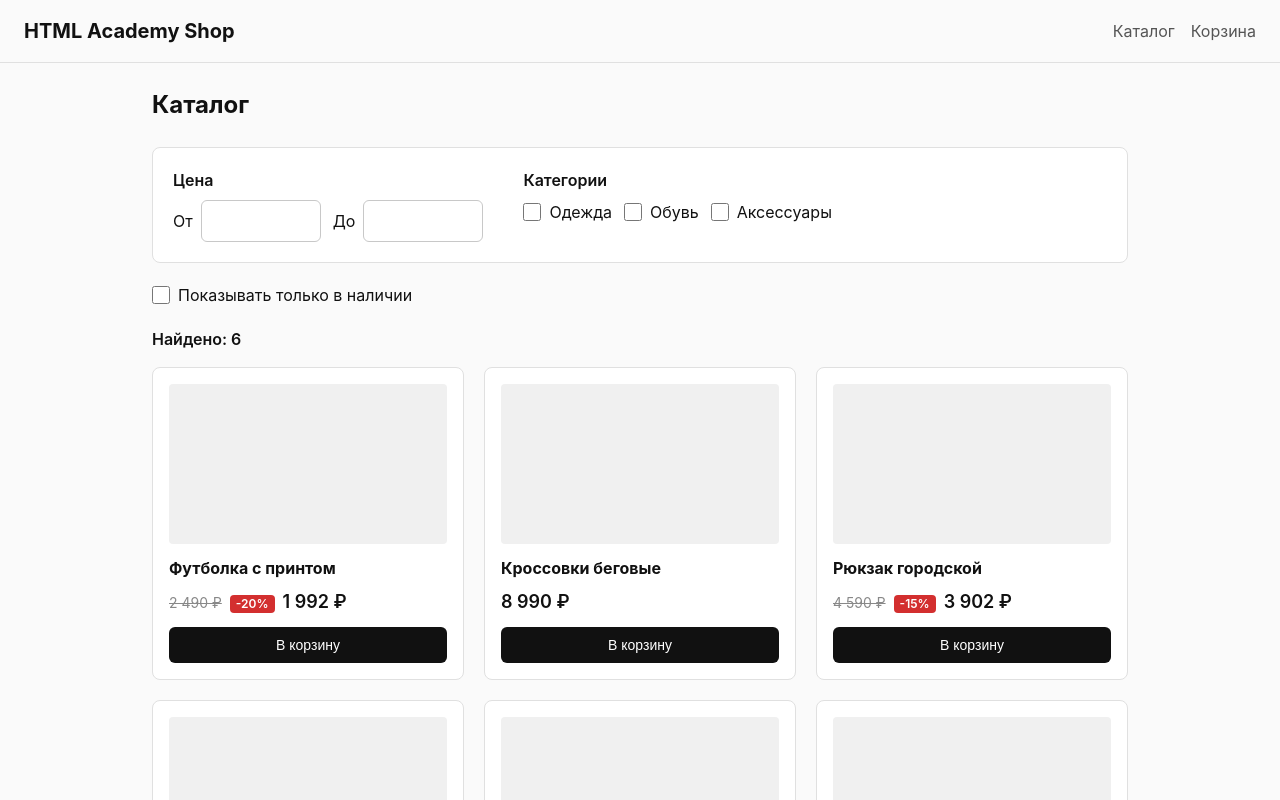
Test case: shop › adds a product to the cart and shows the total
Click the button "В корзину" below "1 992 ₽". click: (308, 645)
box: x1=169 y1=627 x2=447 y2=663
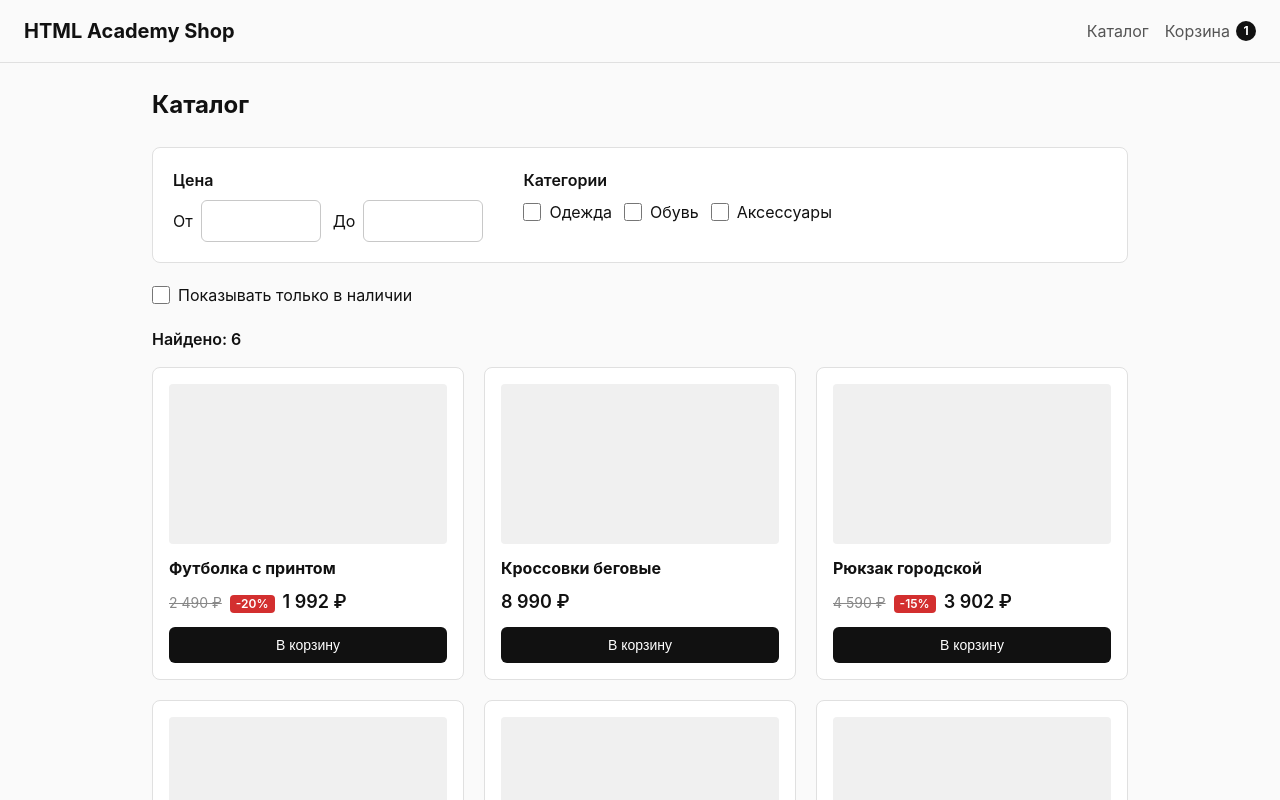
Click the link "Корзина 1". click: (1210, 31)
box: x1=1165 y1=19 x2=1256 y2=43
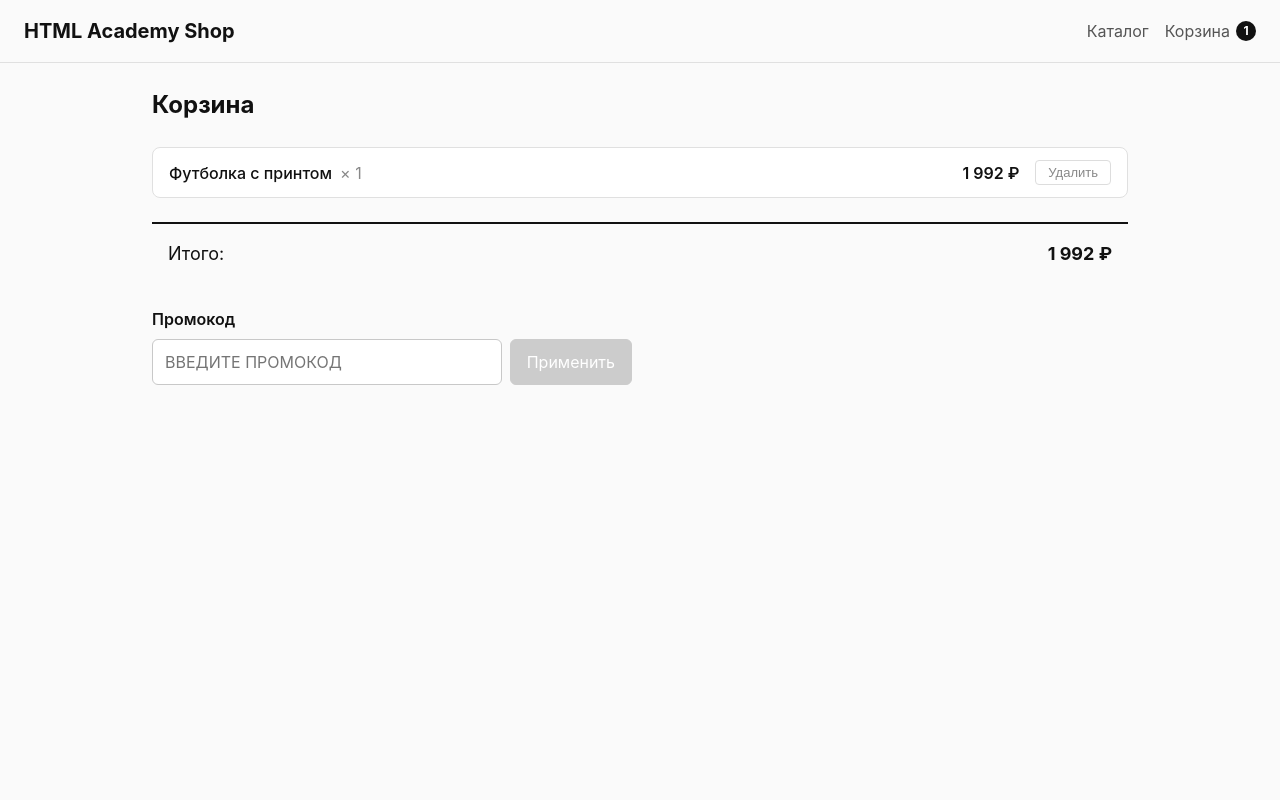
expect the text "Футболка с принтом" is shown: met, box x1=169 y1=162 x2=332 y2=182
expect the heading "Корзина" is shown: met, box x1=152 y1=90 x2=254 y2=119
expect the text "Итого:" is shown: met, box x1=168 y1=240 x2=224 y2=267
